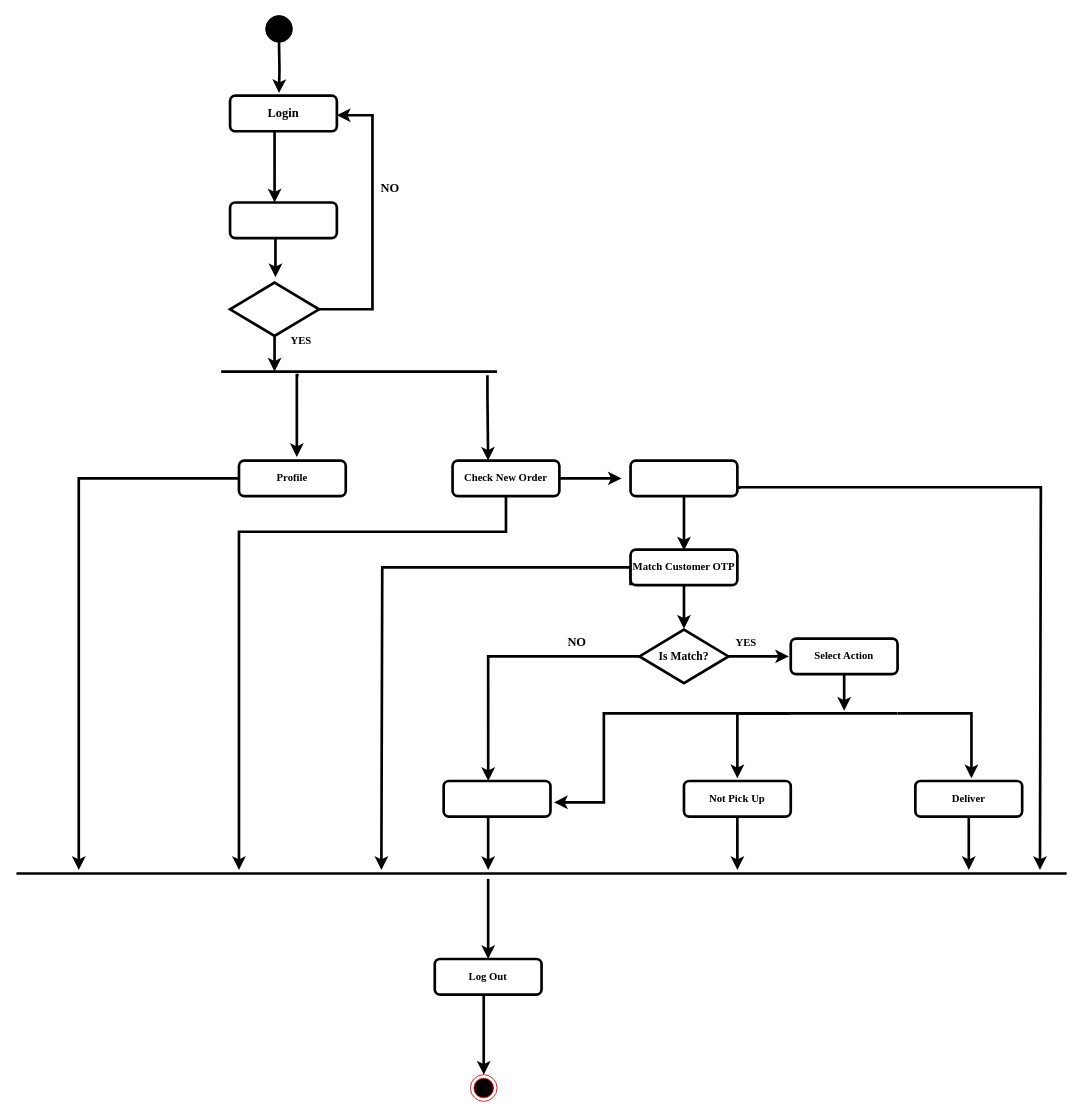
This 1083x1117 diagram has some shape labels left out. Here are the shapes that lost their labels. From the top down, the centre of each, then its label:
pixel 283 220: Authenticate
pixel 274 309: Is Valid?
pixel 683 478: Details
pixel 496 798: Not Deliver
